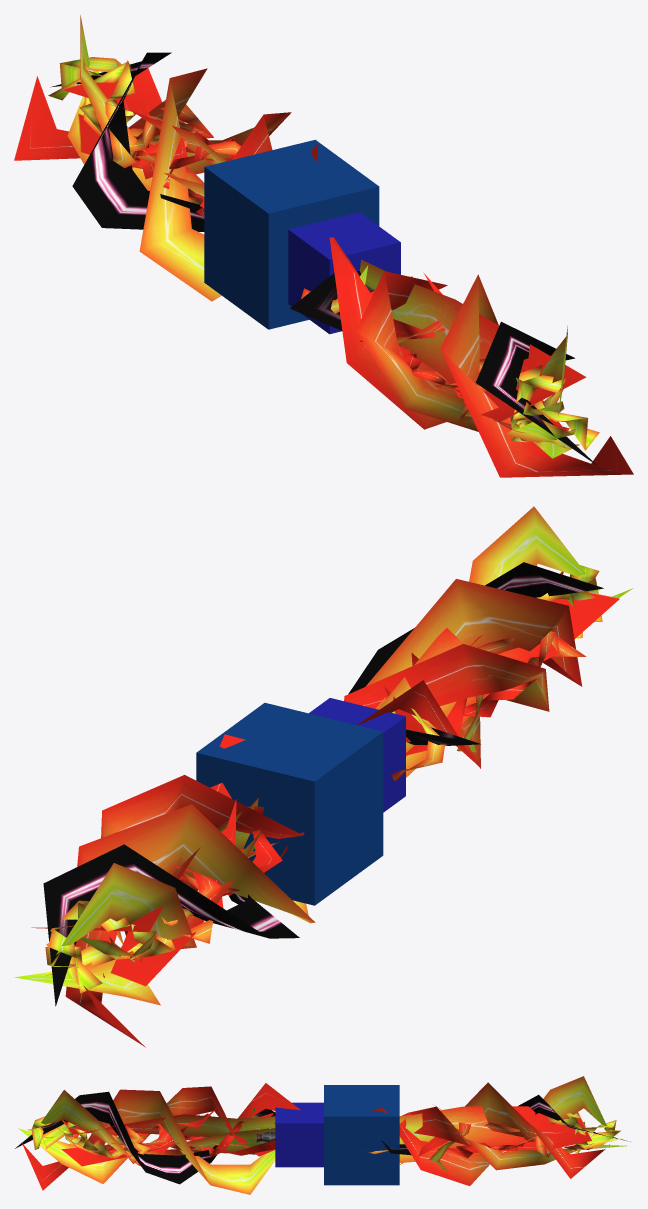
3 views of the same model, one above another, from view 1: azimuth 30°, elevation 25°; view 2: azimuth 150°, elevation 25°; view 3: azimuth 270°, elevation 25° (orthographic). The views are drawn at different scales.
Visible parts, largest first — view 1: object0161_Box, object0129_Object17, object0060_Object09, object0049_Object10, object0132_Object18, object0164_Box, object0083_Object04, object0106_Object03, object0071_Object08, object0123_Object15, object0135_Object19, object0126_Object16 (+9 smaller); view 2: object0161_Box, object0129_Object17, object0060_Object09, object0132_Object18, object0126_Object16, object0049_Object10, object0106_Object03, object0144_Object20, object0071_Object08, object0164_Box, object0083_Object04, object0120_Object14 (+9 smaller); view 3: object0161_Box, object0060_Object09, object0144_Object20, object0135_Object19, object0164_Box, object0071_Object08, object0049_Object10, object0106_Object03, object0129_Object17, object0126_Object16, object0083_Object04, object0091_Plane31 (+11 smaller).
Part boxes in pixels (box(x1,y1,x2,y2)): object0161_Box: box(204, 139, 379, 329); object0129_Object17: box(14, 68, 221, 301); object0060_Object09: box(440, 274, 633, 477); object0049_Object10: box(356, 271, 579, 458); object0132_Object18: box(50, 52, 204, 231); object0164_Box: box(288, 212, 400, 334); object0083_Object04: box(359, 259, 586, 421); object0106_Object03: box(329, 237, 567, 429); object0071_Object08: box(290, 270, 596, 464); object0123_Object15: box(48, 57, 235, 168); object0135_Object19: box(62, 68, 226, 164); object0126_Object16: box(67, 70, 291, 207); object0161_Box: box(196, 703, 383, 905); object0129_Object17: box(65, 804, 315, 1047); object0060_Object09: box(366, 571, 582, 686); object0132_Object18: box(43, 844, 299, 1006); object0126_Object16: box(14, 775, 304, 1005); object0049_Object10: box(344, 588, 632, 714); object0106_Object03: box(357, 506, 586, 768); object0144_Object20: box(56, 734, 245, 954); object0071_Object08: box(348, 562, 603, 745); object0164_Box: box(309, 698, 405, 812); object0083_Object04: box(378, 592, 619, 756); object0120_Object14: box(45, 806, 282, 967); object0161_Box: box(324, 1085, 399, 1185); object0060_Object09: box(22, 1089, 275, 1194); object0144_Object20: box(372, 1076, 609, 1185); object0135_Object19: box(399, 1106, 591, 1150); object0164_Box: box(275, 1102, 323, 1167); object0071_Object08: box(15, 1091, 275, 1184); object0049_Object10: box(18, 1086, 271, 1183); object0106_Object03: box(41, 1083, 300, 1166); object0129_Object17: box(400, 1082, 615, 1178); object0126_Object16: box(402, 1106, 626, 1170); object0083_Object04: box(62, 1114, 275, 1137); object0091_Plane31: box(61, 1128, 275, 1166).
Bounding box in the file's own units: 0.6171 × 0.4859 × 2.79.
